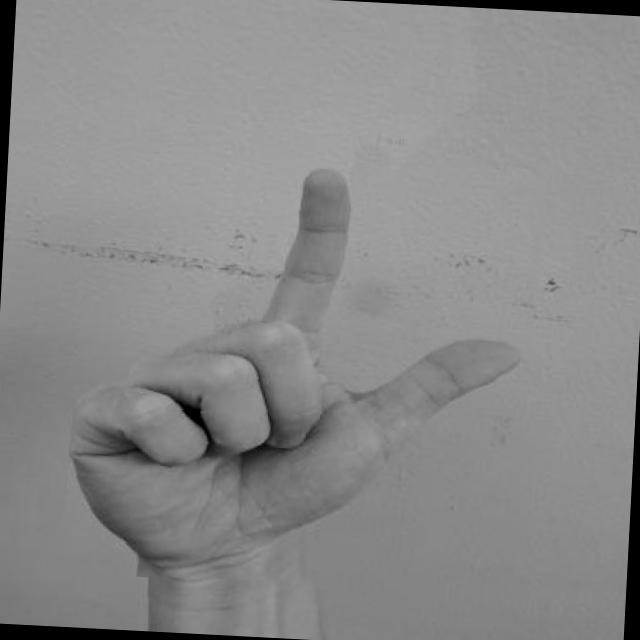L: (62, 153, 546, 599)
